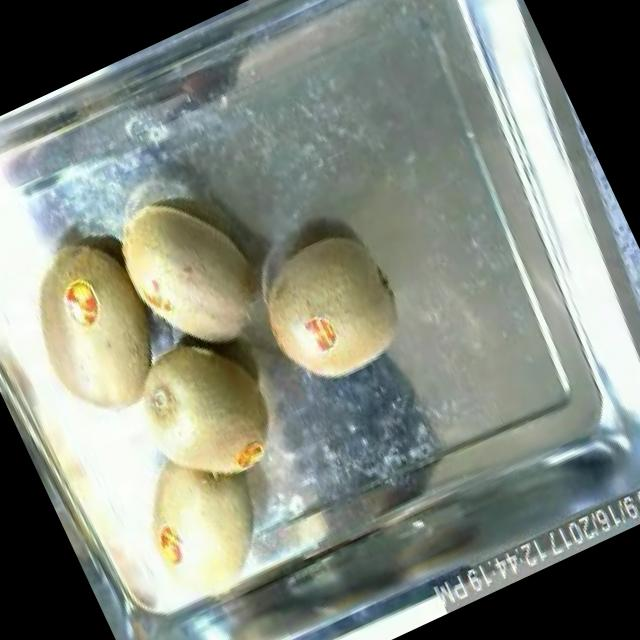Fruit: (90, 163, 294, 384), (103, 306, 301, 515), (232, 208, 428, 410)
